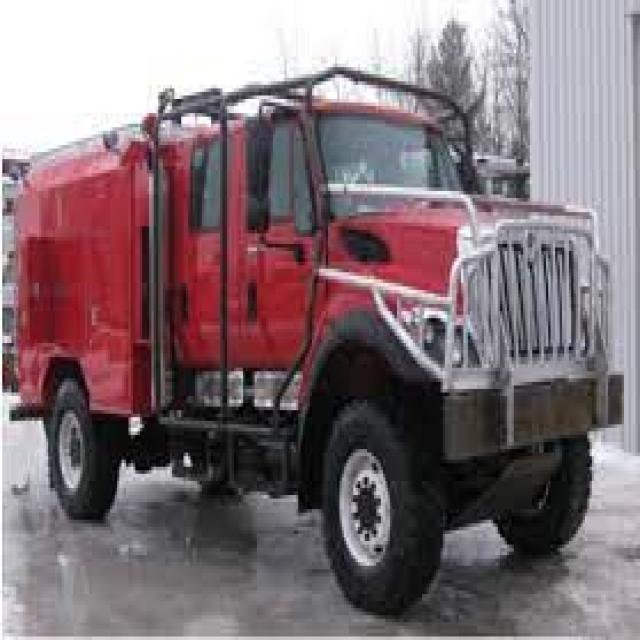pompier: (13, 71, 618, 616)
